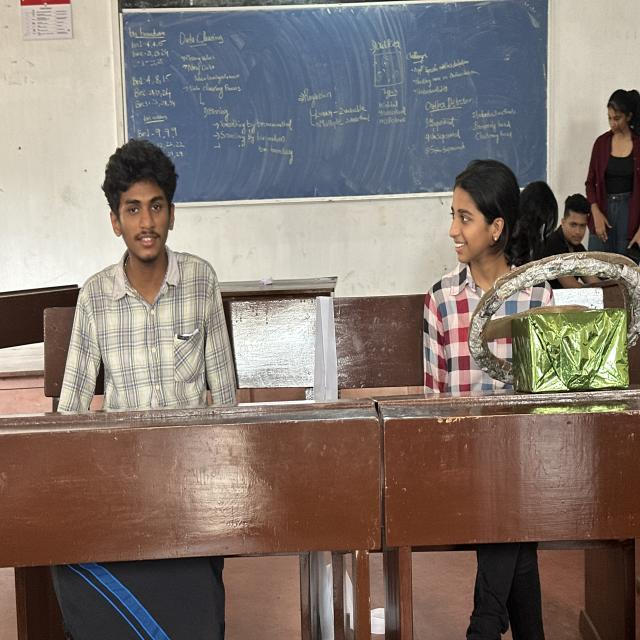Helmet: (407, 223, 600, 441), (48, 238, 264, 428)
